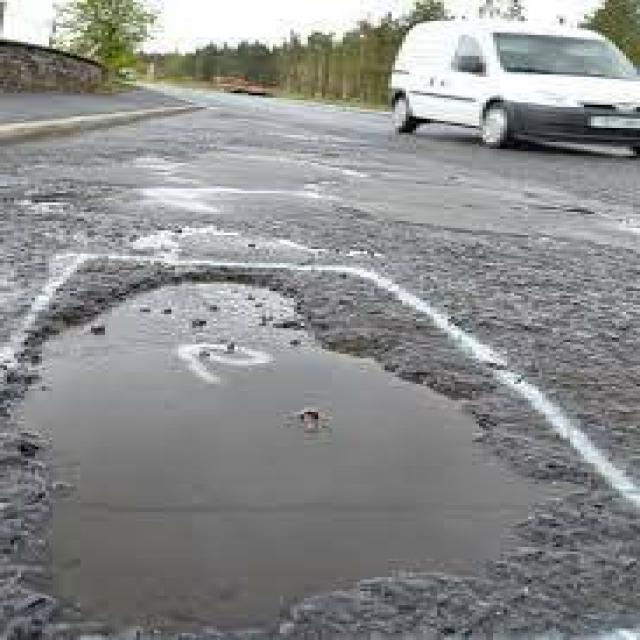pothole: (0, 251, 539, 638)
